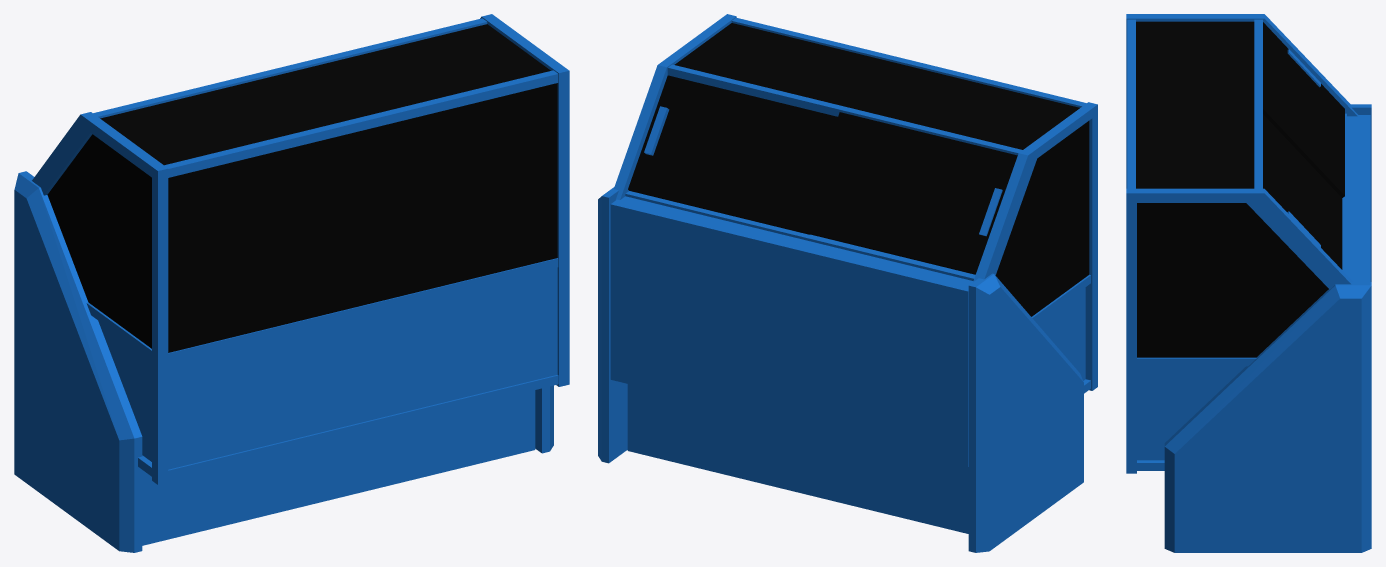
The model's file is SM_display_case_1.fbx.
3 renders of one model, left to right at view 1: azimuth 30°, elevation 25°; view 2: azimuth 150°, elevation 25°; view 3: azimuth 270°, elevation 25°, orthographic. The views are drawn at different scales.
Parts seen in each view (by area): view 1: Cylinder_3; view 2: Cylinder_3; view 3: Cylinder_3.
Boxes of the visible parts, x1,y1,x2,y2 form: Cylinder_3: [14, 14, 569, 552]; Cylinder_3: [598, 14, 1097, 552]; Cylinder_3: [1126, 14, 1371, 552].
Bounding box in the file's own units: 153 × 134 × 83.95.
